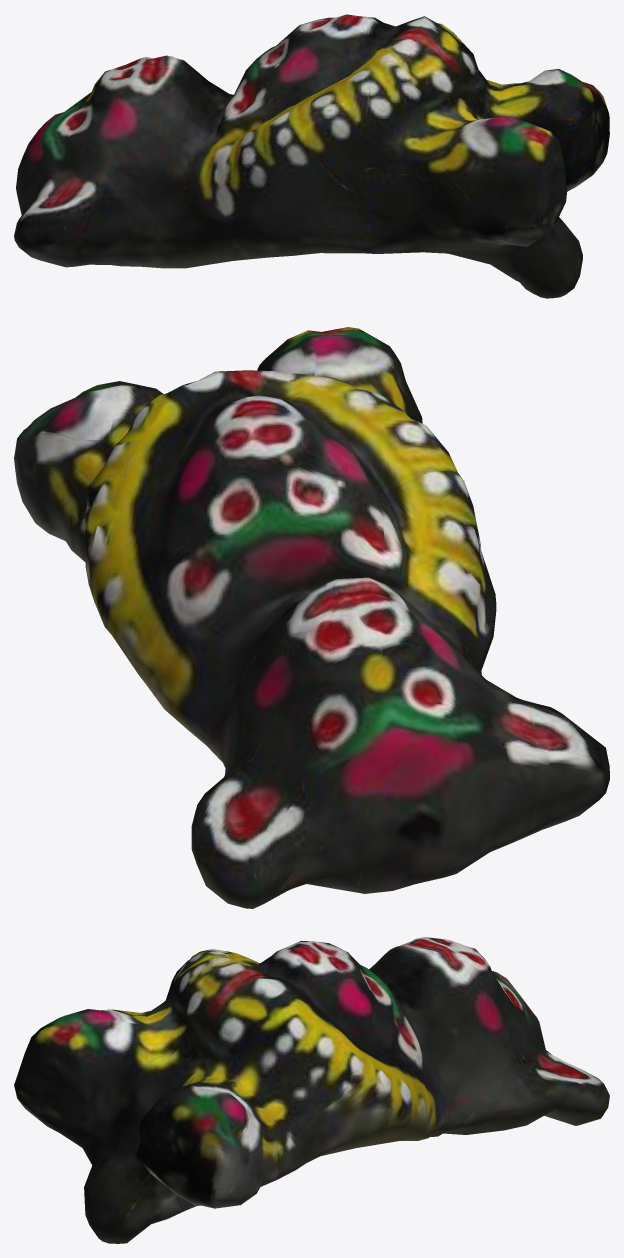
Rendered from hall.glb.
3 views of the same model, one above another, from view 1: azimuth 30°, elevation 25°; view 2: azimuth 150°, elevation 25°; view 3: azimuth 270°, elevation 25° (orthographic). The views are drawn at different scales.
Bounding box in the file's own units: 0.7851 × 0.3507 × 0.7879.
Materials: 1 (1 with a texture image).
